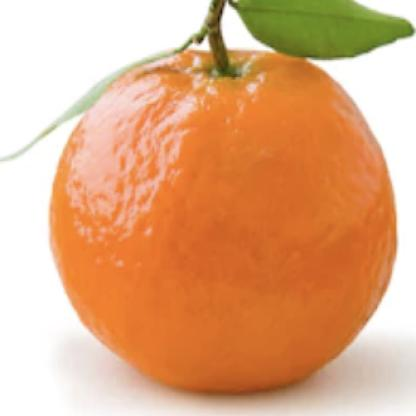fresh: (50, 35, 393, 391)
